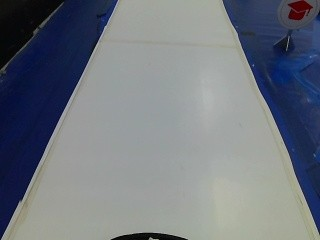school: (275, 0, 318, 29)
